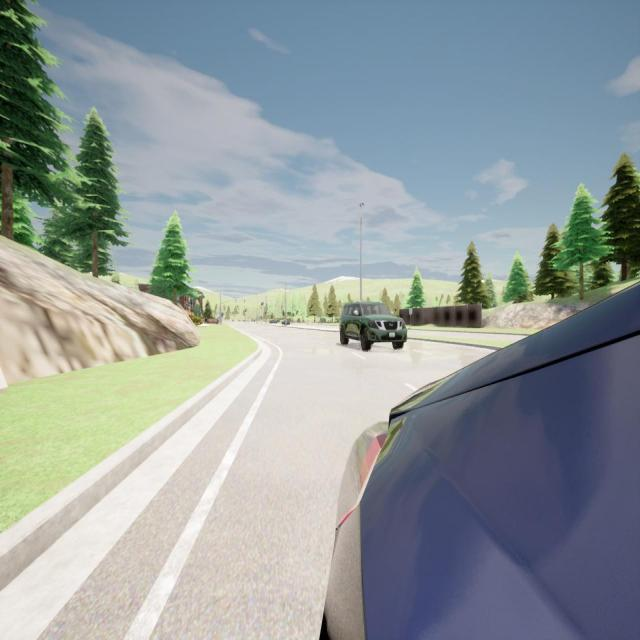Vehicle: (325, 283, 639, 637), (338, 302, 408, 350), (205, 316, 218, 325), (282, 319, 290, 325), (269, 320, 278, 323)
